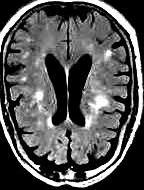Normal_Brain: (1, 1, 143, 190)
